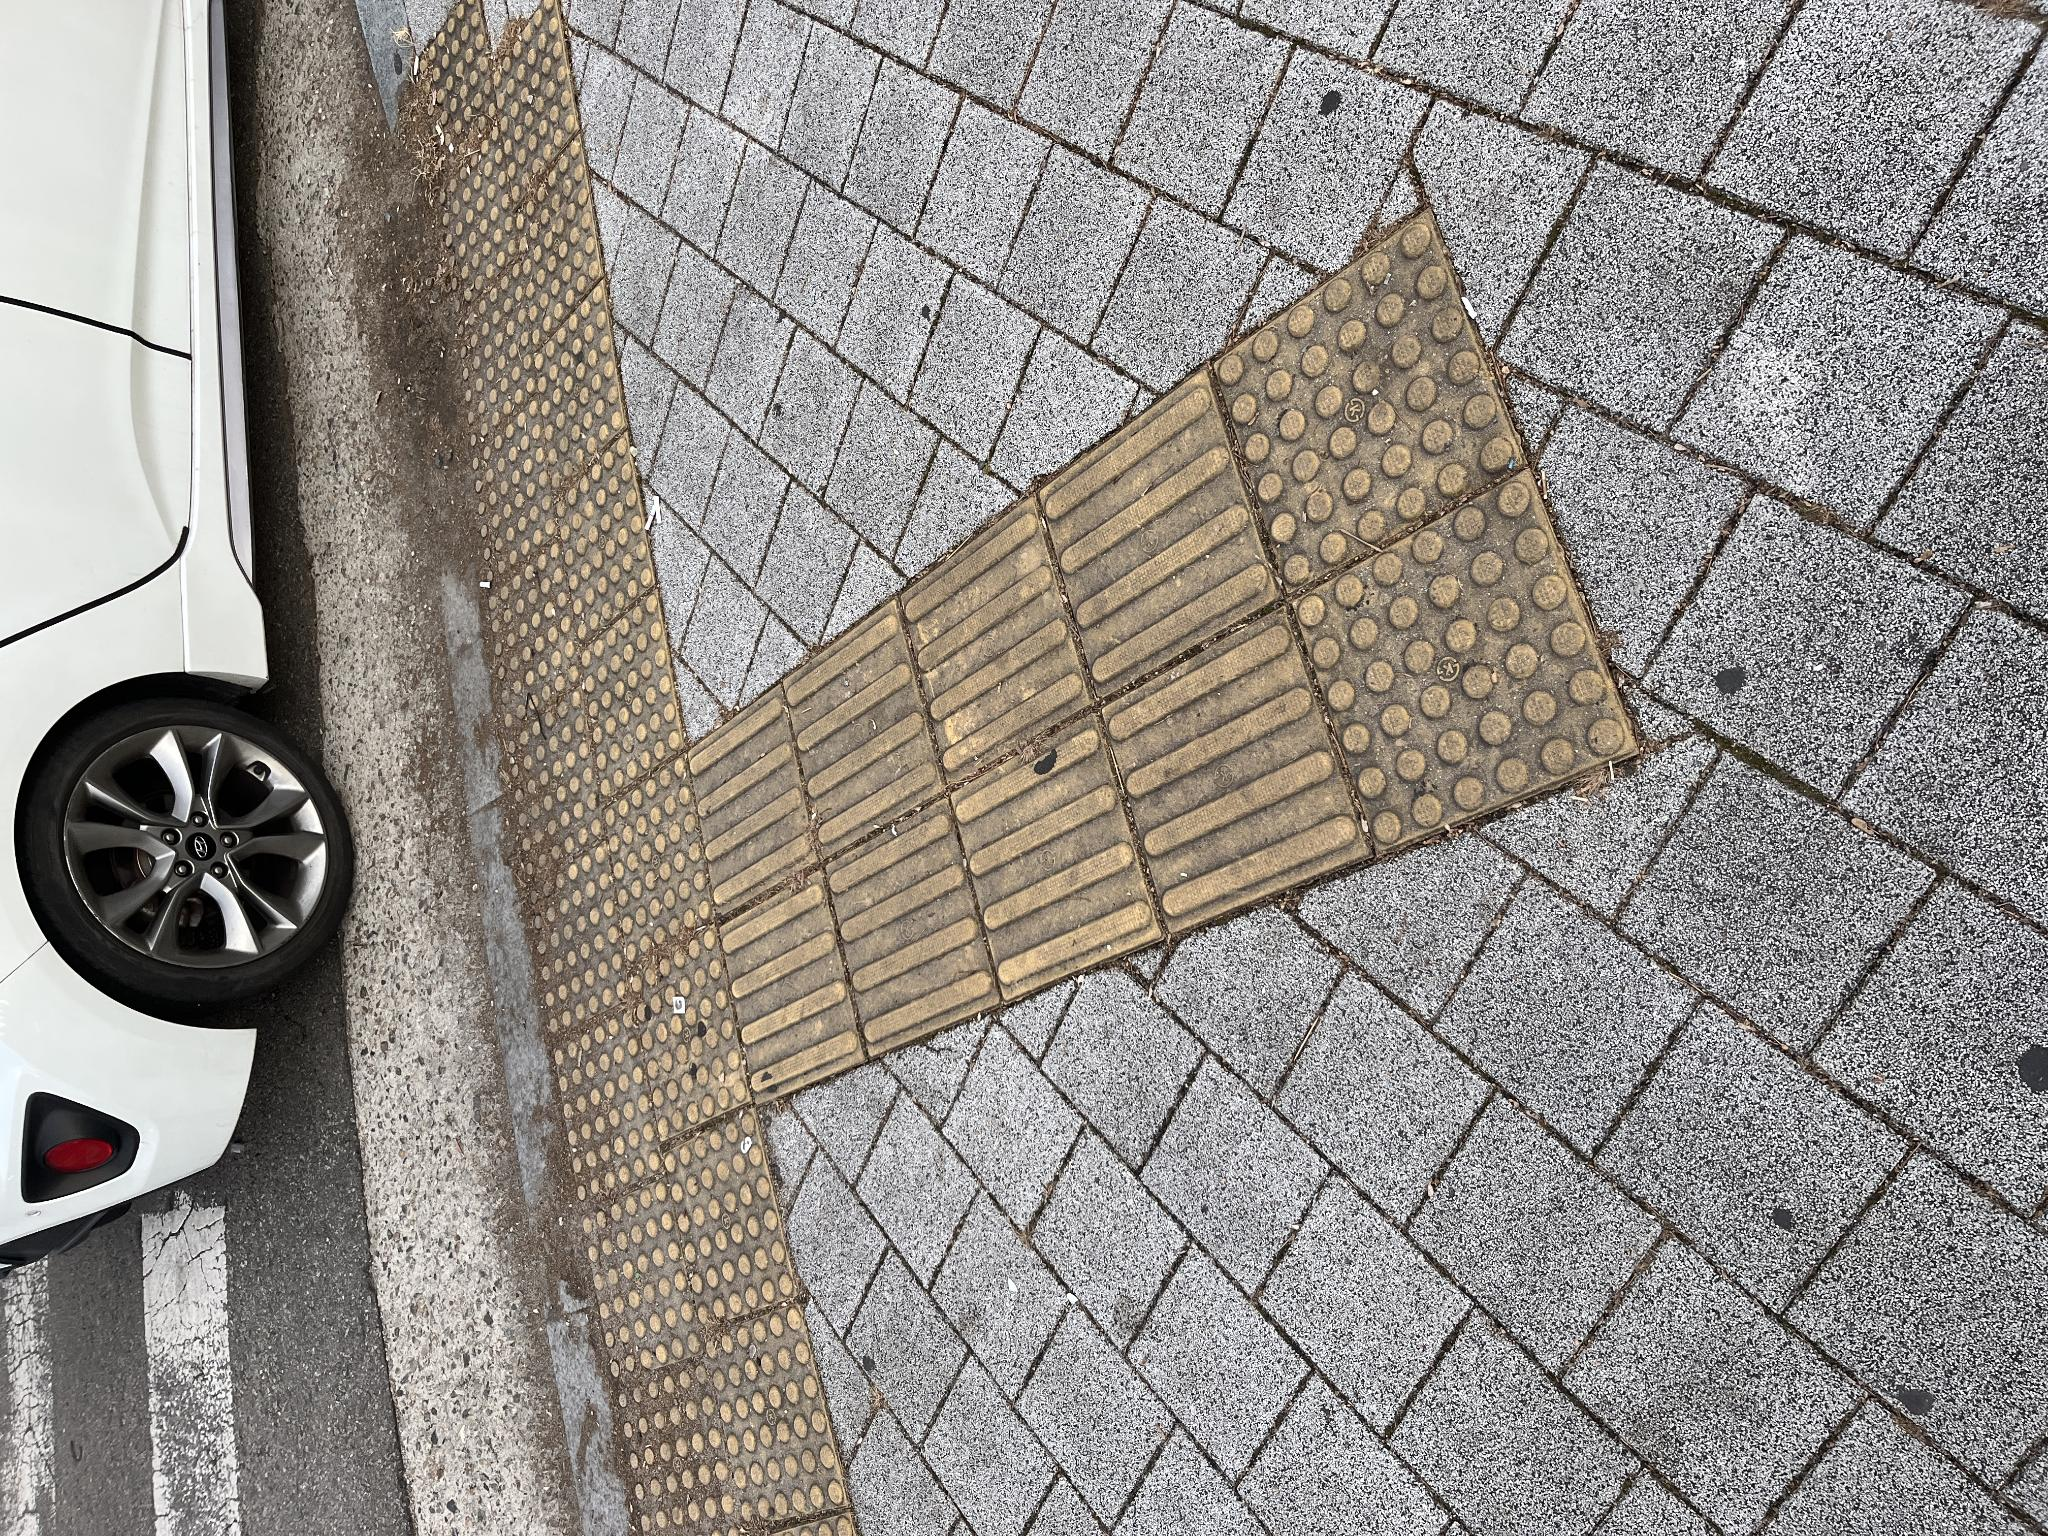Straight block normal: (605, 1102, 930, 1367), (753, 902, 1039, 1089)
